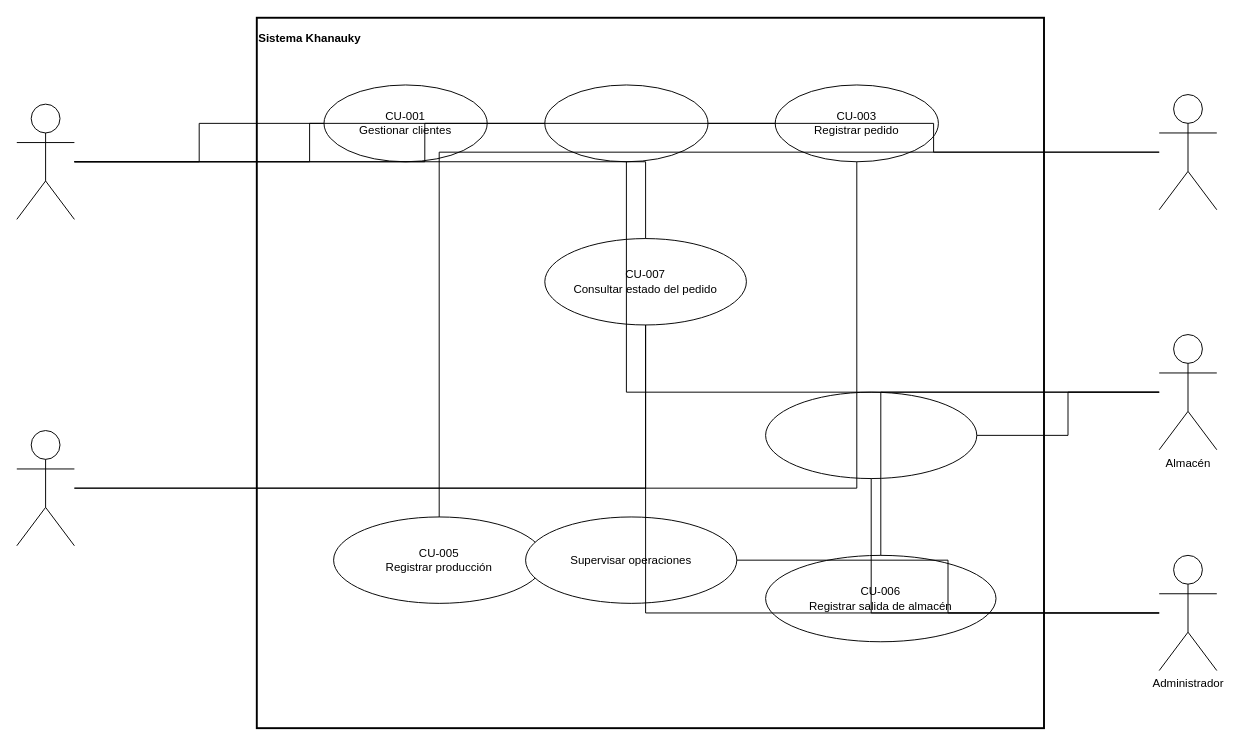
Image size: 1240x745. Some labels were removed from this diagram. The shapes that lost their labels are listed below. From the top down, each one's box as (x1, y1, x2, y2) in pixels, then its label:
(544, 84, 708, 162): CU-002 Atender pedido
(16, 103, 74, 219): Vendedor
(1158, 94, 1217, 210): Producción
(765, 391, 977, 479): CU-004 Consultar y actualizar stock
(16, 430, 74, 546): Cliente
